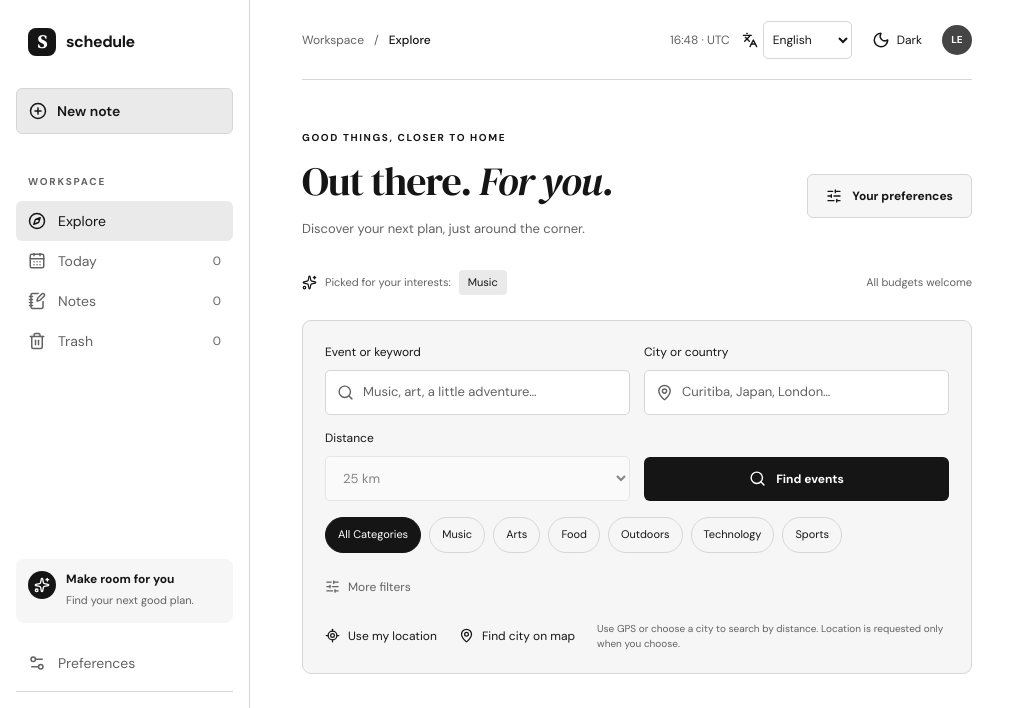
Test: post-login workspace › navigates dates, creates commitments for the selected day and resets to today
Click the button "Today 0": click(124, 261) [16,241,233,281]
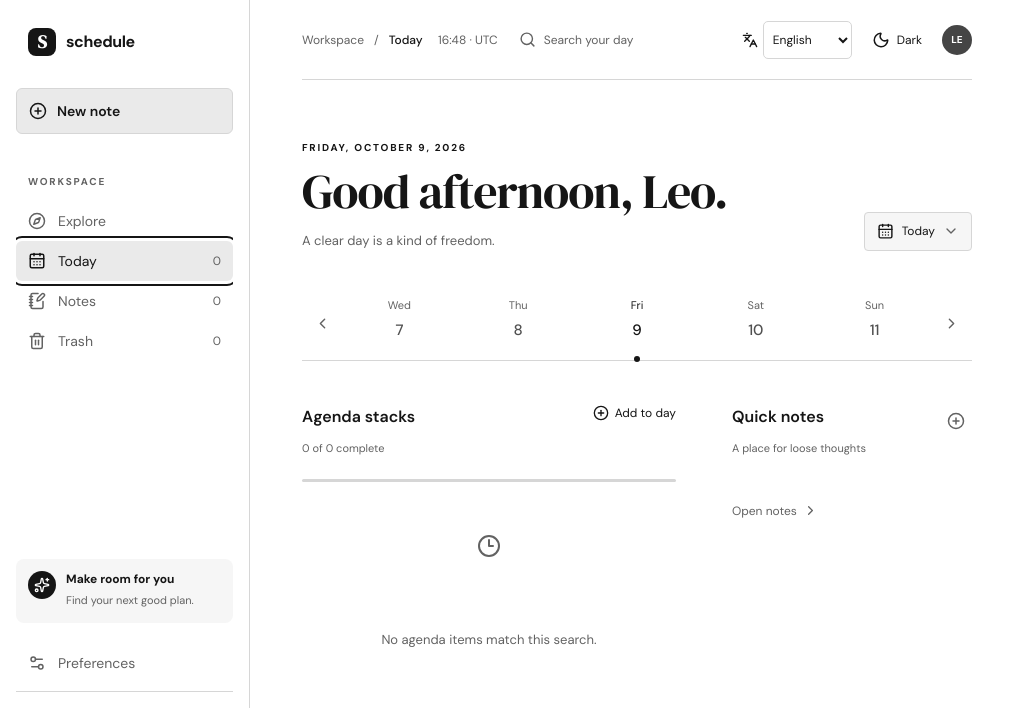
Click the button named "Next days": click(952, 323) [936,307,968,339]
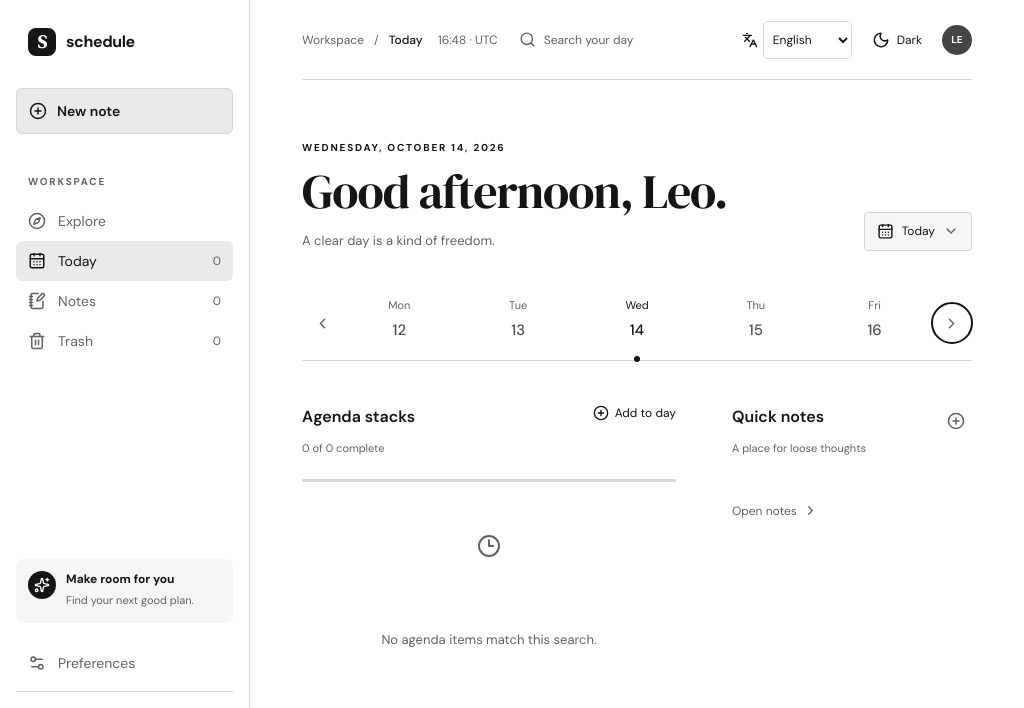
Click the button "Add to day": click(634, 412) [593,404,676,420]
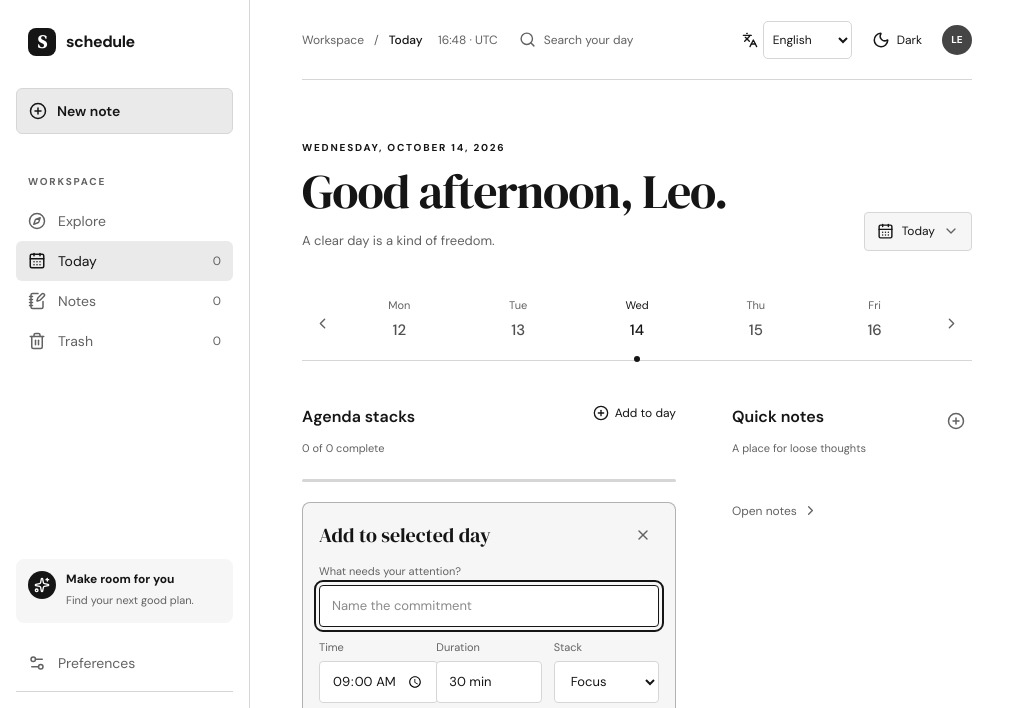
In the field labelled "What needs your attention?": (489, 606) [319,585,659,626], type "Future task"
(page scrolled)
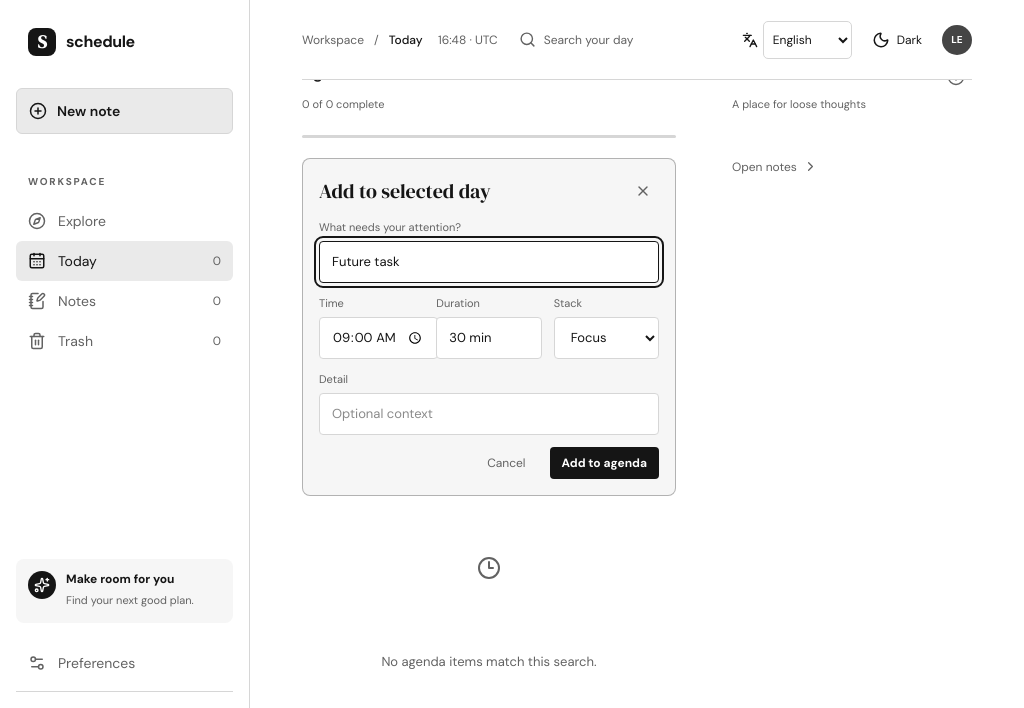
Click the button "Add to agenda": click(604, 463) [550,447,659,479]
(page scrolled)
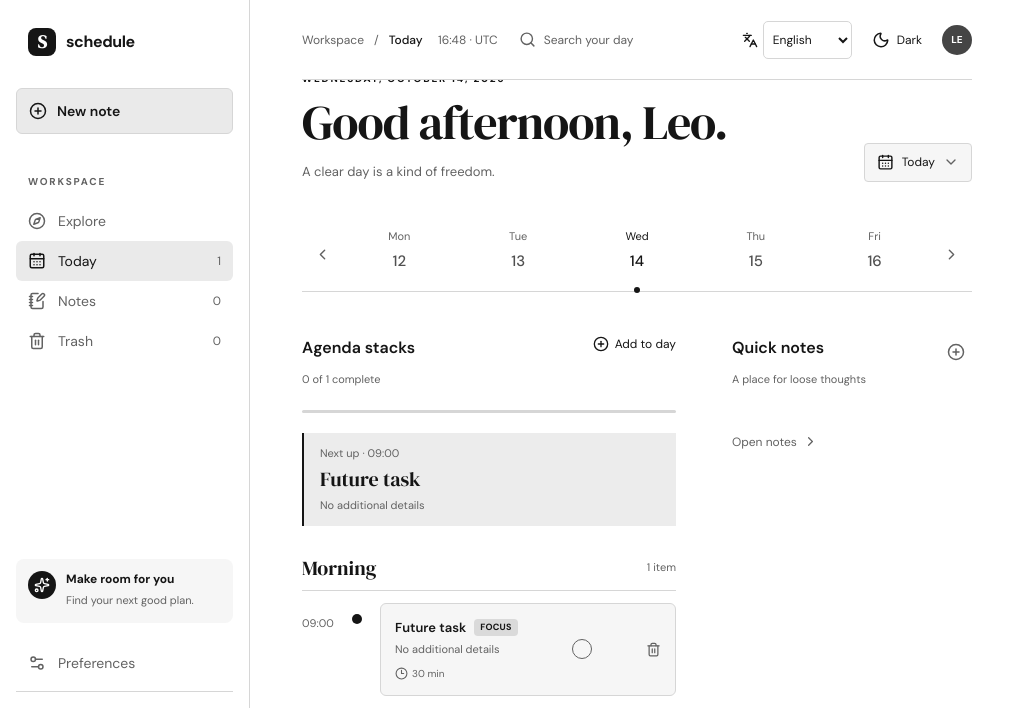
Expected: the heading "Future task" is shown, [395,618,466,637]
Click the button with aria-label "Go to today": click(918, 162) [864,142,972,182]
(page scrolled)
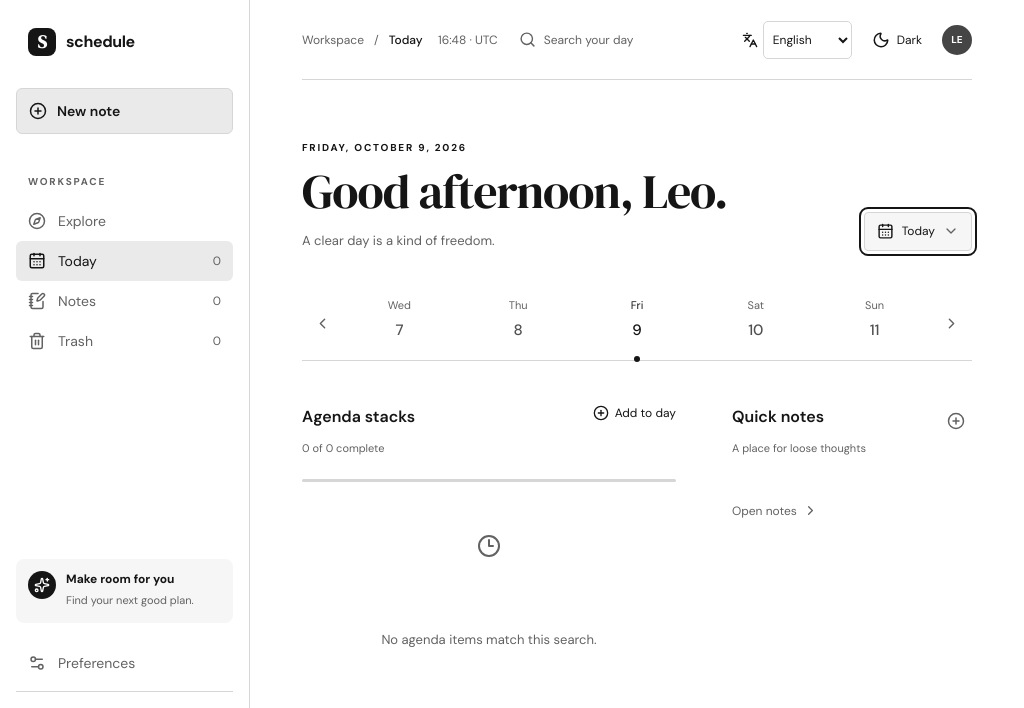
Expected: the text "Future task" is gone
